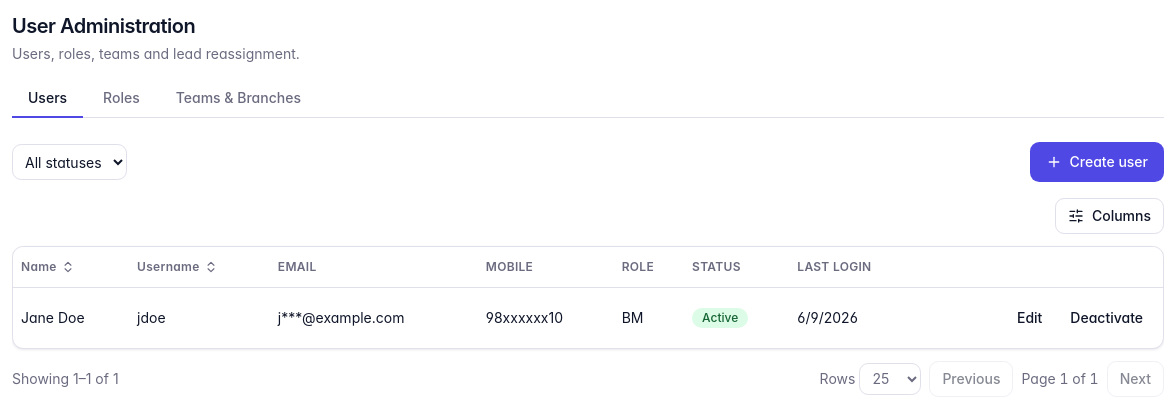
Test case: UserAdminPage › switches to the Teams tab and lists team rows
This screenshot has width=1176, height=414.
Click the tab "Teams & Branches": (238, 99) x1=160 y1=80 x2=317 y2=118
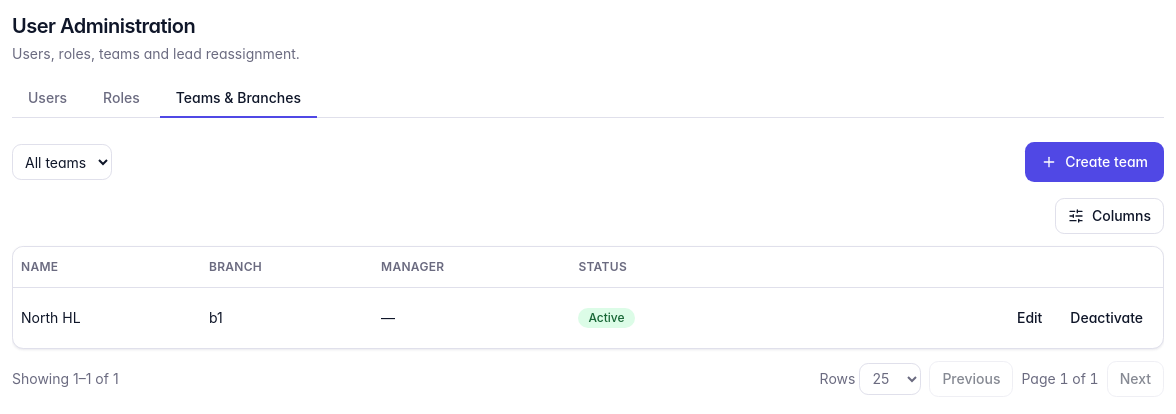
Expected: the text "North HL" is shown, x1=13 y1=287 x2=201 y2=348
Expected: the button "Create team" is shown, x1=1025 y1=142 x2=1164 y2=182
